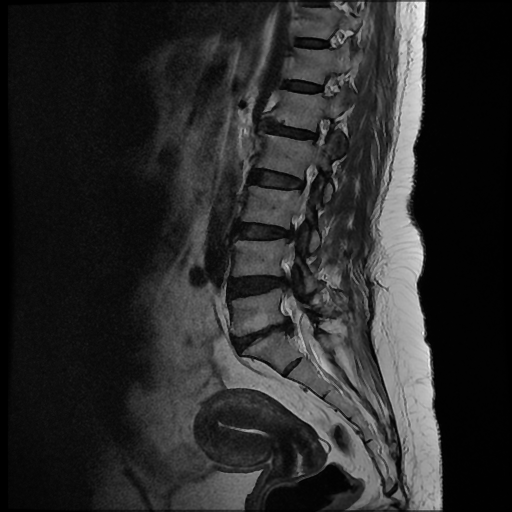RFS0: (303, 107, 340, 155)
